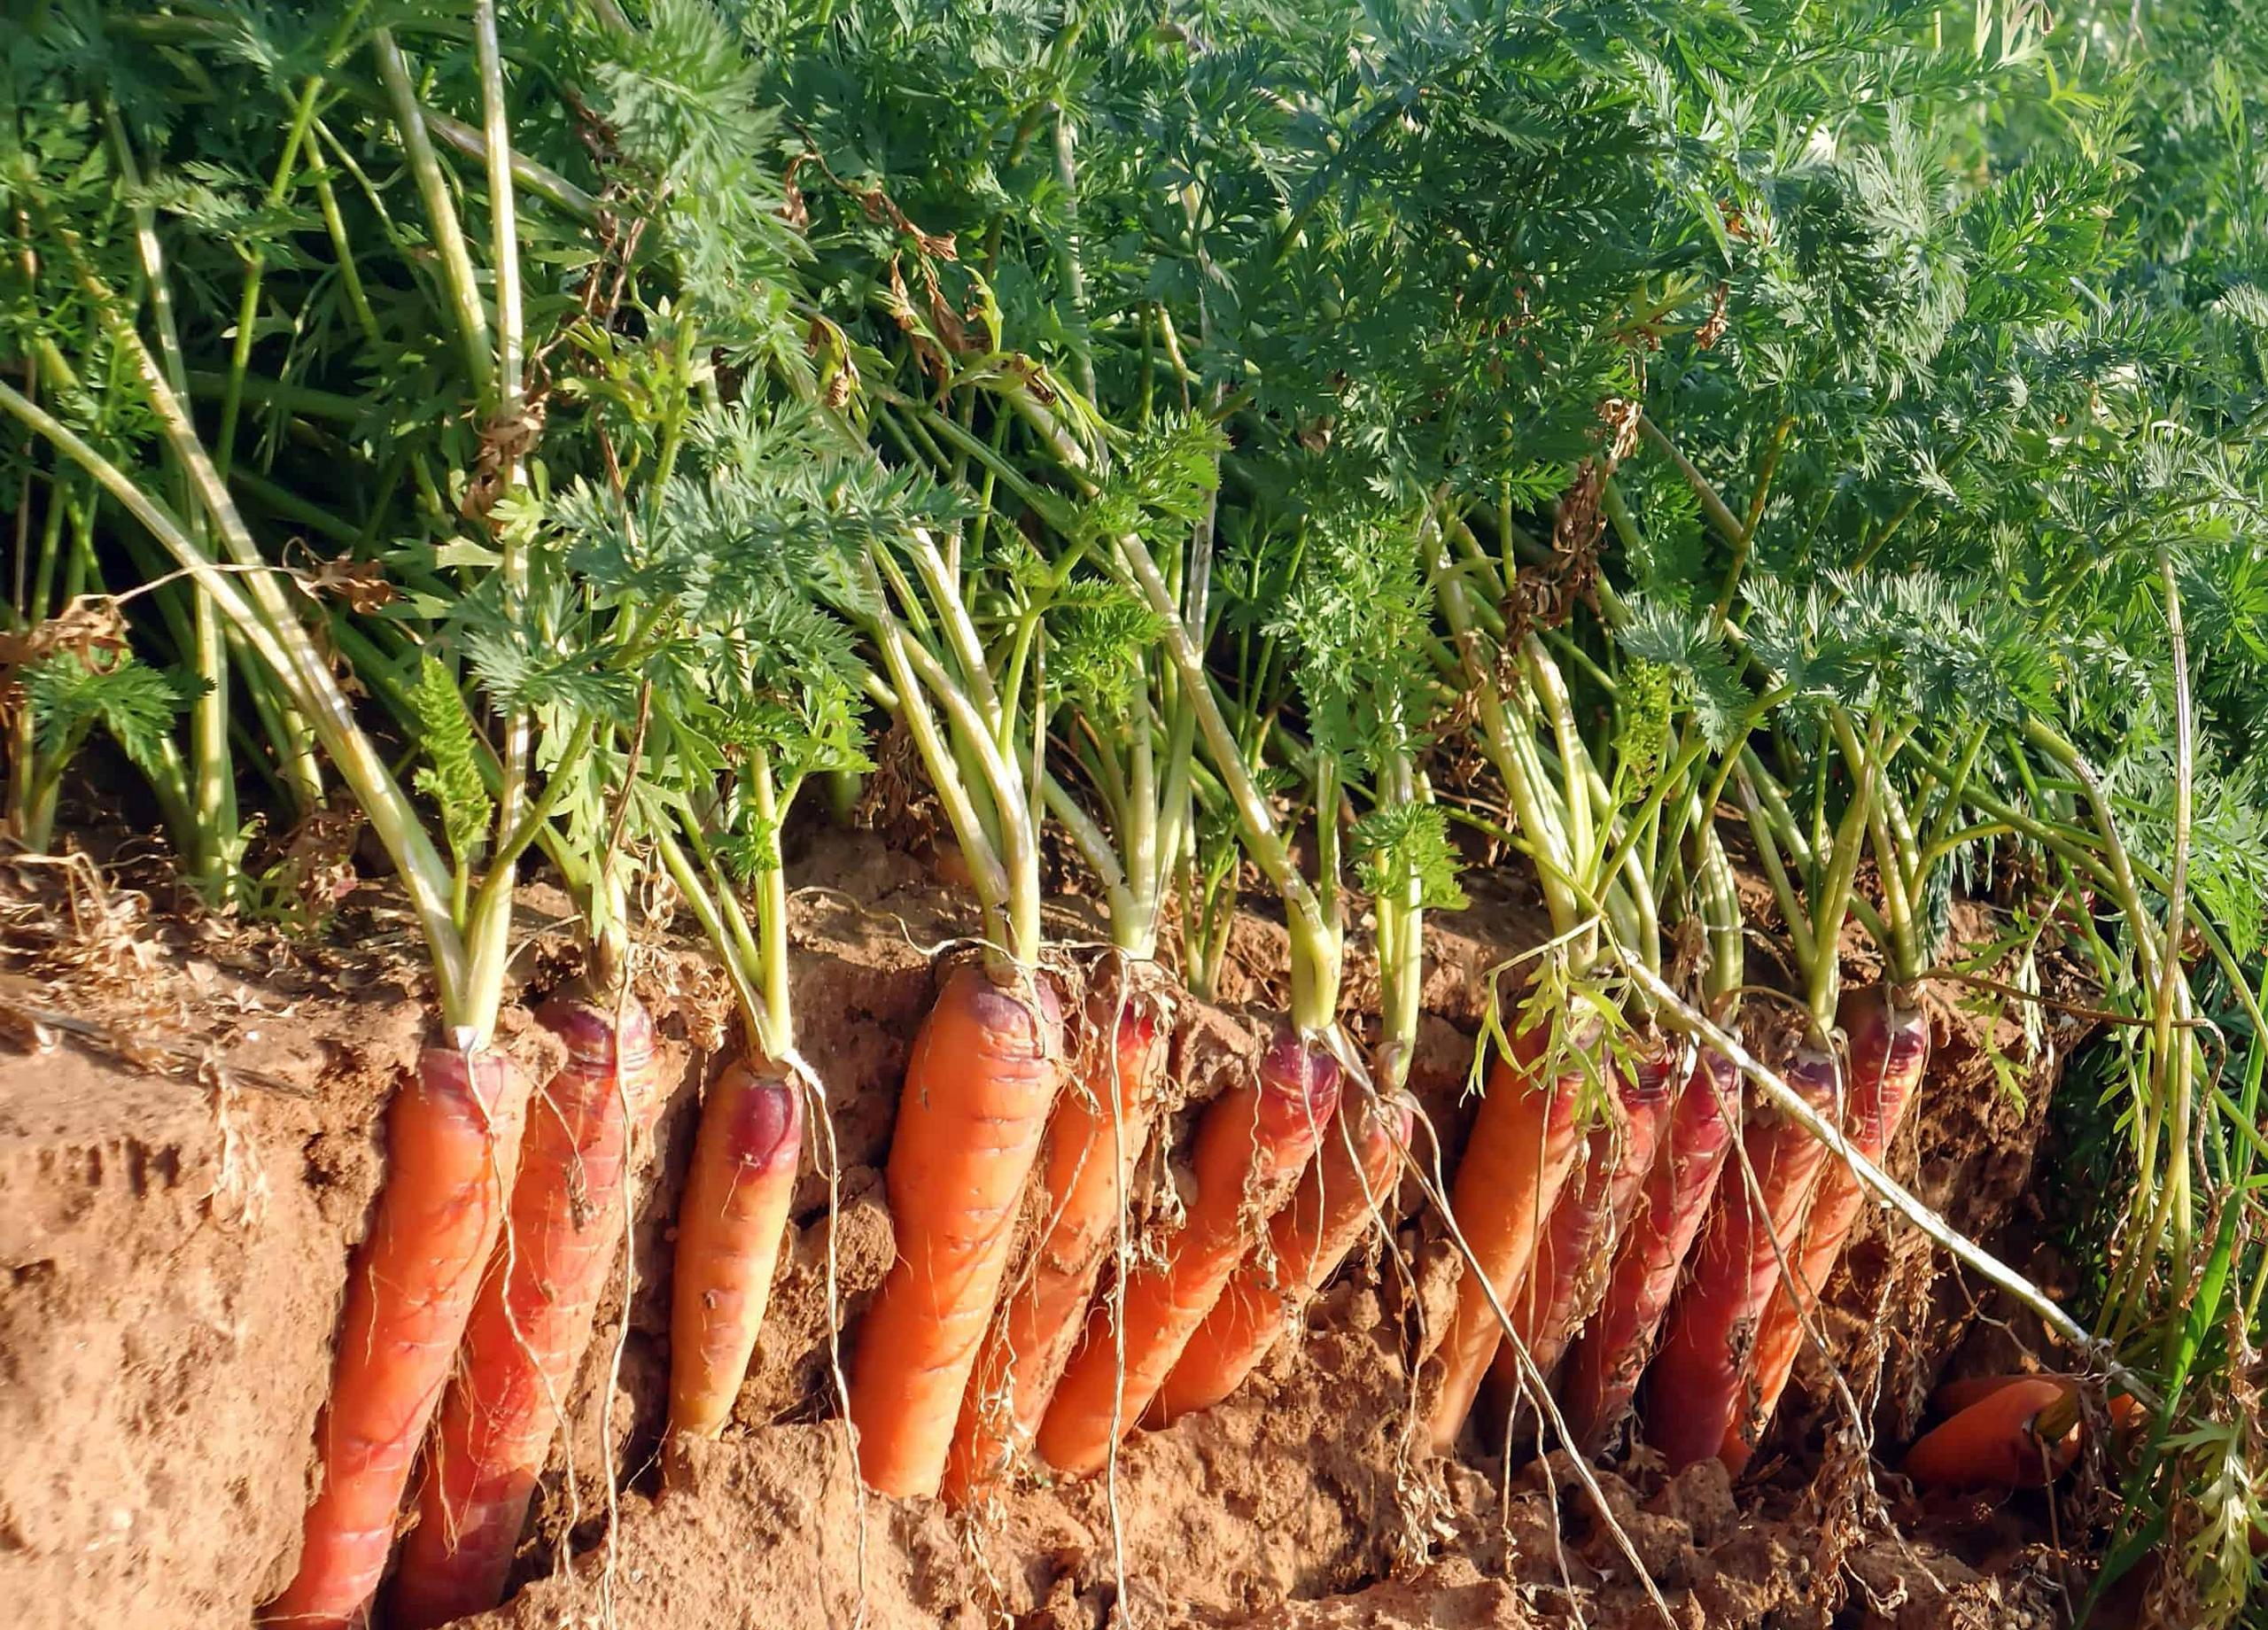carrot: (375, 965, 1826, 1461), (1081, 877, 1926, 1472), (840, 378, 1078, 1477), (361, 993, 634, 1616), (660, 667, 835, 1484)
